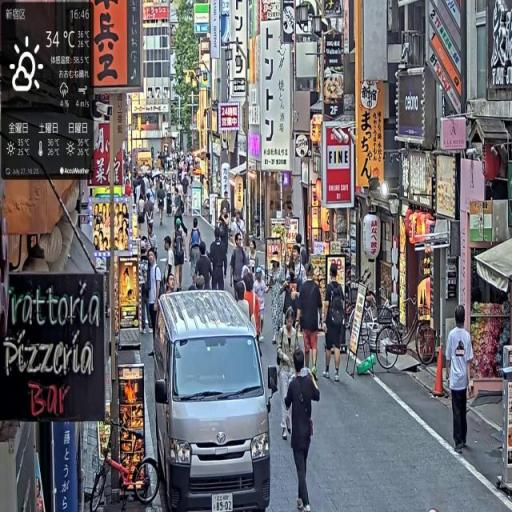person: (283, 349, 322, 512), (447, 304, 476, 456), (297, 265, 326, 384), (323, 264, 349, 383), (230, 232, 248, 301), (173, 217, 189, 293), (210, 227, 227, 294), (194, 242, 215, 291)
